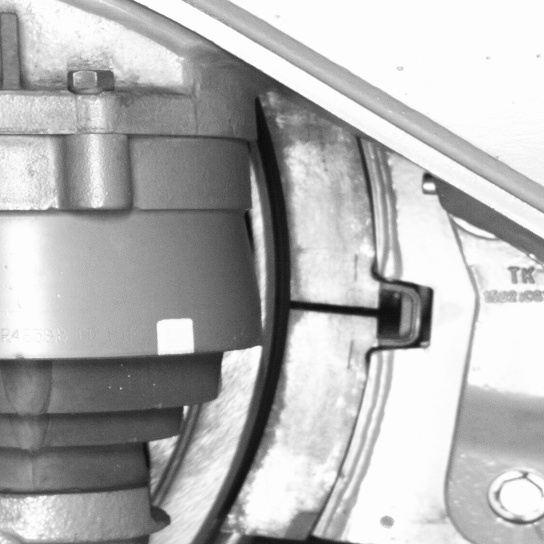KnifeSwitch: (188, 137, 375, 542)
